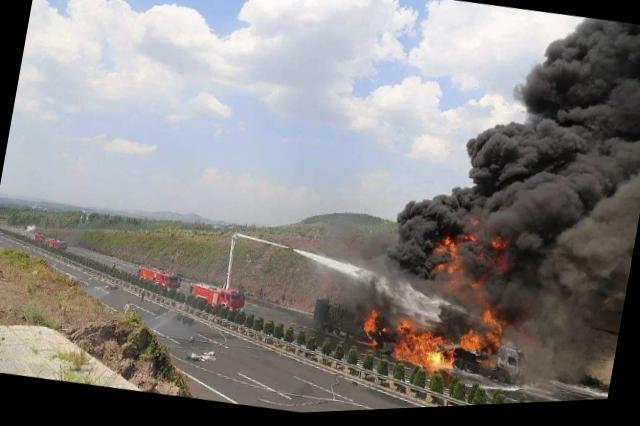fire: (358, 201, 520, 388)
